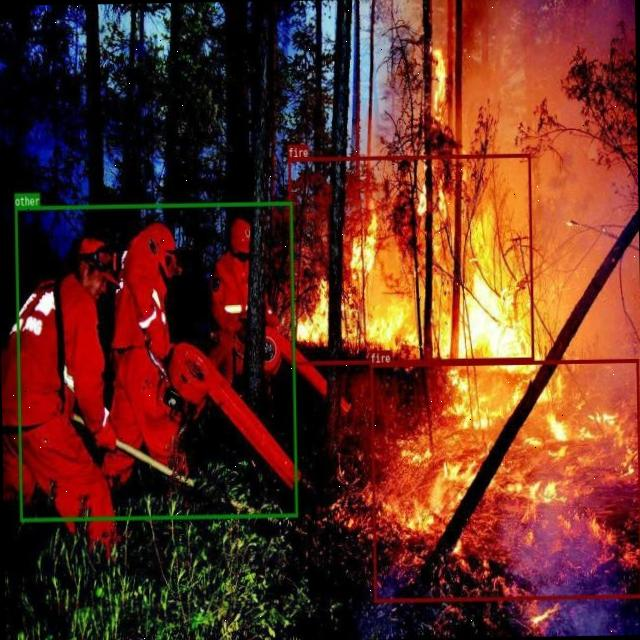fire: (370, 357, 640, 601), (287, 153, 534, 364)
